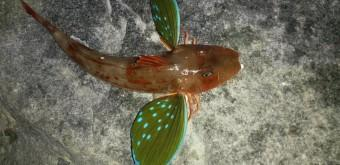fish: (21, 0, 244, 164)
